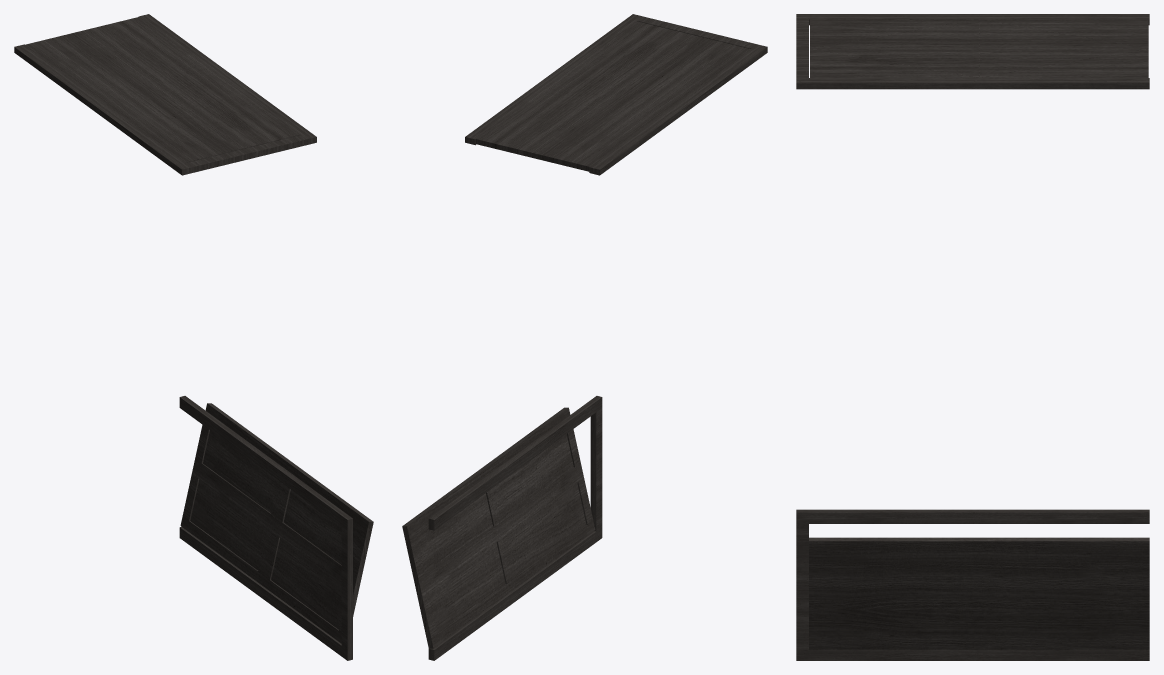
Rendered from puerta.dae.
3 renders of one model, left to right at view 1: azimuth 30°, elevation 25°; view 2: azimuth 150°, elevation 25°; view 3: azimuth 270°, elevation 25°, orthographic. The views are drawn at different scales.
Parts seen in each view (by area): view 1: node; view 2: node; view 3: node.
Boxes of the visible parts, x1,y1,x2,y2 form: node: (14,14,373,660); node: (402,14,767,660); node: (796,14,1149,660).
Size of the model in its own units: 1430 by 3676 by 2105.
